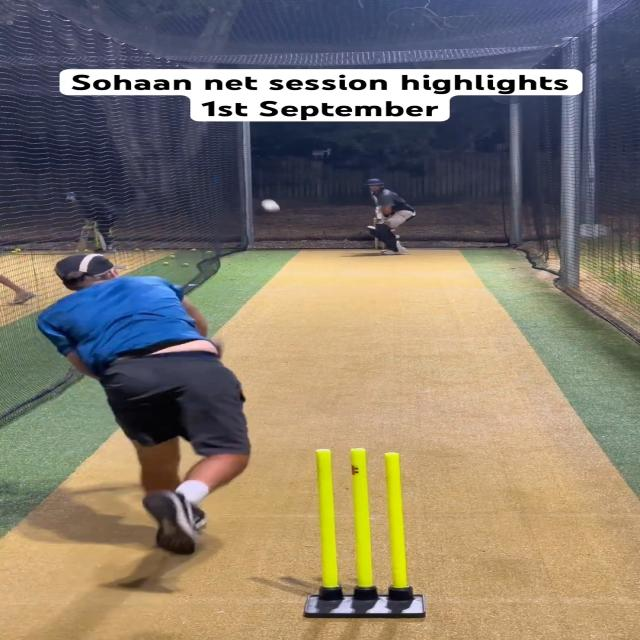ball: (261, 199, 280, 212)
stump: (305, 446, 429, 620)
